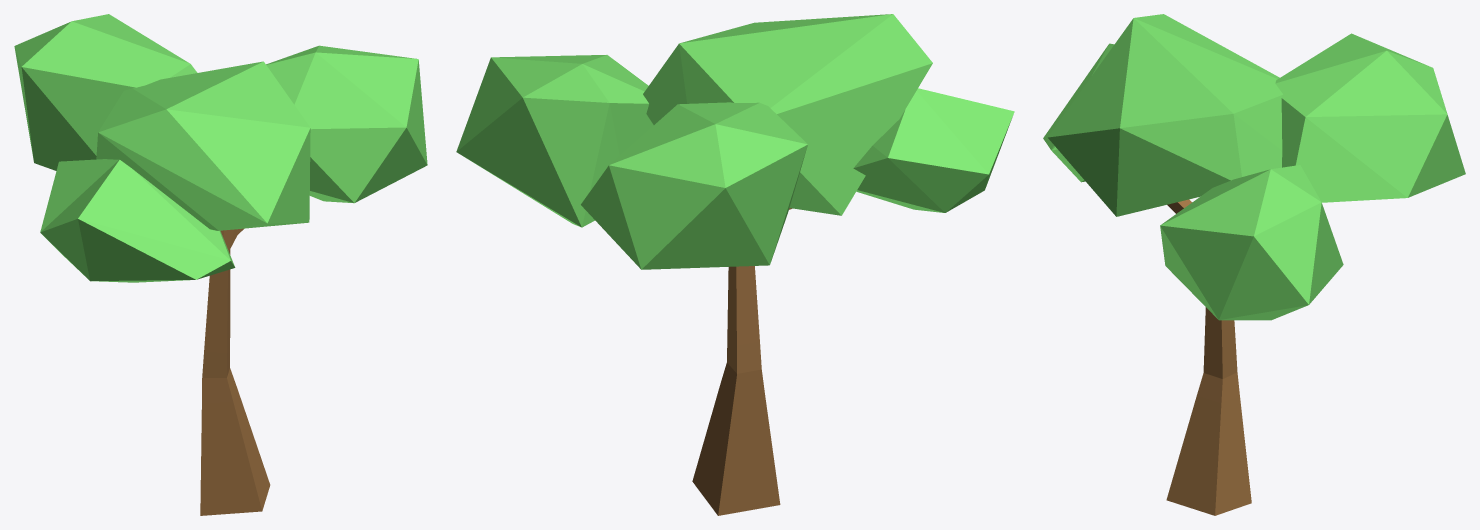
Rendered from tree3.fbx.
The picture shows the model from 3 angles, left to right: view 1: azimuth 30°, elevation 25°; view 2: azimuth 150°, elevation 25°; view 3: azimuth 270°, elevation 25°; orthographic projection. The views are drawn at different scales.
Visible parts, largest first — view 1: Icosphere.001, Tree2; view 2: Icosphere.001, Tree2; view 3: Icosphere.001, Tree2.
Boxes of the visible parts, <box> form: Icosphere.001: <box>14,14,427,282</box>; Tree2: <box>200,228,270,515</box>; Icosphere.001: <box>456,14,1014,269</box>; Tree2: <box>692,208,792,515</box>; Icosphere.001: <box>1043,14,1465,320</box>; Tree2: <box>1166,199,1251,515</box>.
Size of the model in its own units: 1168 by 1178 by 1035.
